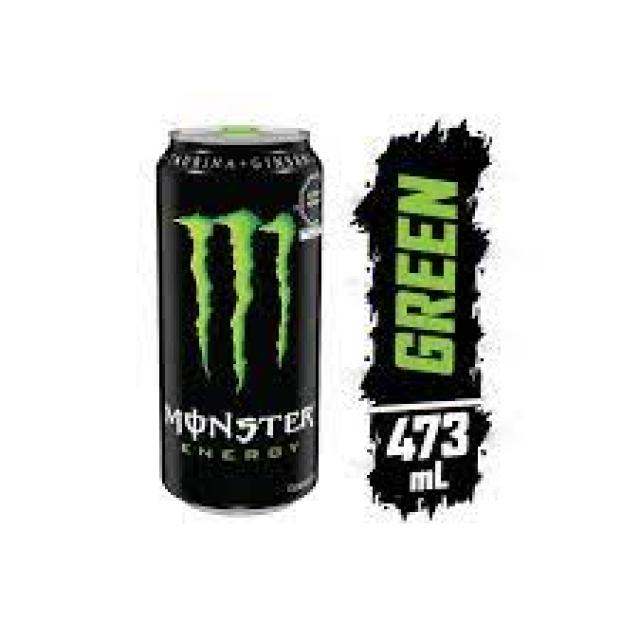Cans: (140, 107, 340, 538)
